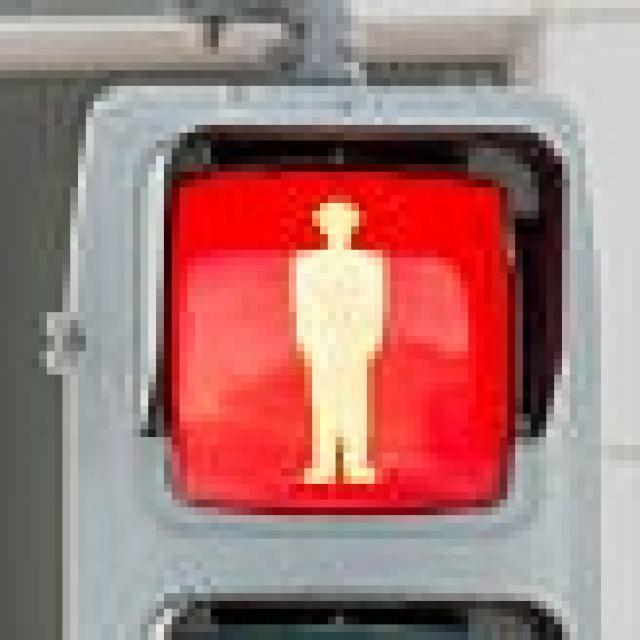red-crossing: (218, 163, 444, 508)
